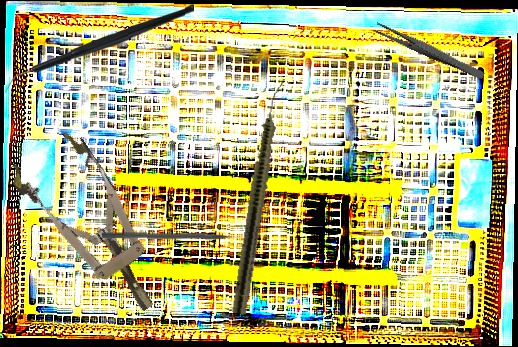Chopper: (3, 4, 196, 94)
Dressing Forceps: (372, 21, 487, 81)
Handpiece: (230, 79, 287, 316)
Pusher: (101, 231, 251, 243)
Speculum: (4, 124, 182, 333)
